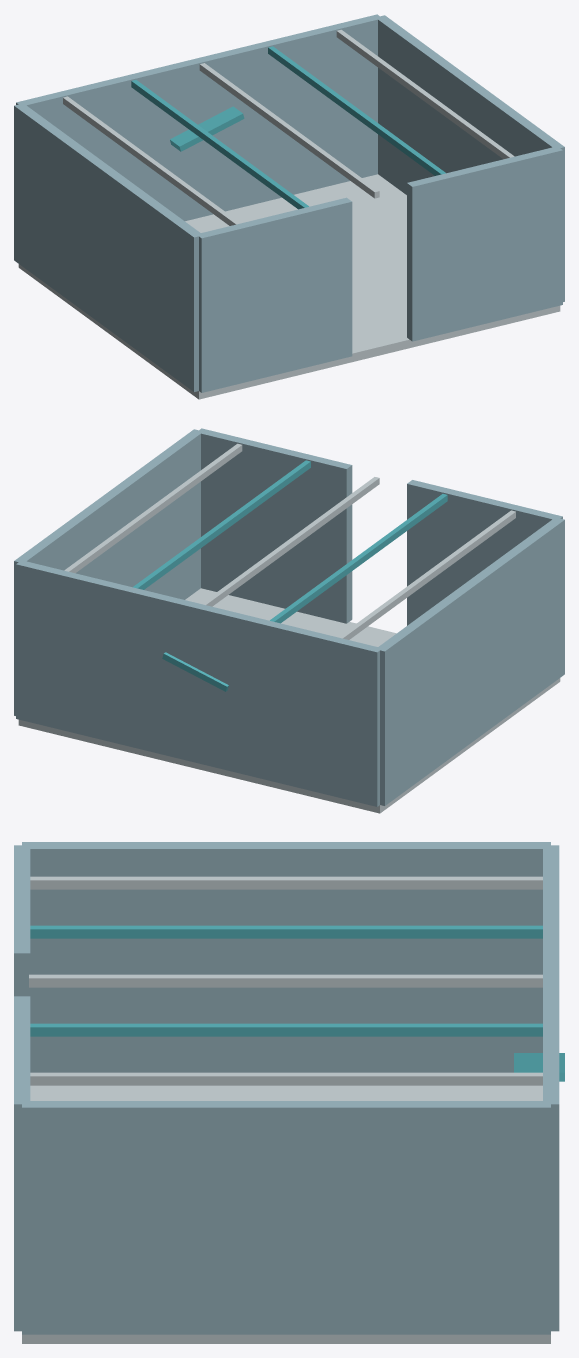
Rendered from aurora_observatory_main.glb.
The picture shows the model from 3 angles, top to bottom: view 1: azimuth 30°, elevation 25°; view 2: azimuth 150°, elevation 25°; view 3: azimuth 270°, elevation 25°; orthographic projection. The views are drawn at different scales.
Parts seen in each view (by area): view 1: wall_north, wall_west, wall_south_right, wall_south_left, wall_east, floor, ceiling_beam_0, ceiling_beam_2, ceiling_beam_-1, ceiling_beam_1, ceiling_beam_-2, purpose_cloud_observatory; view 2: wall_north, wall_west, wall_south_right, wall_east, wall_south_left, floor, ceiling_beam_0, ceiling_beam_2, ceiling_beam_-1, ceiling_beam_1, ceiling_beam_-2, purpose_cloud_observatory; view 3: wall_east, wall_west, floor, ceiling_beam_0, ceiling_beam_-2, ceiling_beam_-1, ceiling_beam_1, ceiling_beam_2, wall_north, wall_south_right, wall_south_left, purpose_cloud_observatory.
Part boxes in pixels (x1,y1,x2,y2): wall_north: (16,14,382,221); wall_west: (14,104,203,391); wall_south_right: (407,146,562,341); wall_south_left: (199,197,352,392); wall_east: (377,15,564,301); floor: (18,174,560,399); ceiling_beam_0: (199,63,379,198); ceiling_beam_2: (336,29,514,159); ceiling_beam_-1: (131,80,308,209); ceiling_beam_1: (268,46,445,175); ceiling_beam_-2: (63,96,240,225); purpose_cloud_observatory: (170,106,244,151); wall_north: (16,561,382,806); wall_west: (376,517,564,805); wall_south_right: (197,428,352,623); wall_east: (14,429,203,715); wall_south_left: (407,480,562,625); floor: (18,588,560,813); ceiling_beam_0: (201,477,379,606); ceiling_beam_2: (64,443,242,573); ceiling_beam_-1: (270,494,447,623); ceiling_beam_1: (133,460,310,589); ceiling_beam_-2: (338,510,515,639); purpose_cloud_observatory: (162,652,228,691); wall_east: (22,1101,550,1334); wall_west: (22,842,550,1072); floor: (22,1085,550,1343); ceiling_beam_0: (29,974,542,987); ceiling_beam_-2: (30,876,542,889); ceiling_beam_-1: (30,925,542,938); ceiling_beam_1: (30,1023,542,1036); ceiling_beam_2: (30,1072,542,1085); wall_north: (543,845,559,1331); wall_south_right: (14,996,30,1331); wall_south_left: (14,845,30,996); purpose_cloud_observatory: (514,1053,564,1081).
Size of what is drawn, in the model's own units: 13.55 by 5.7 by 11.88.
